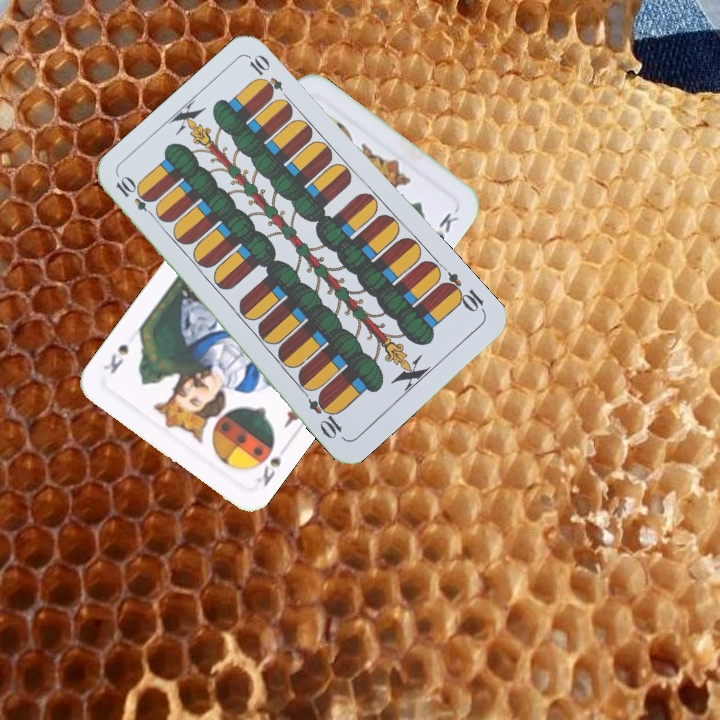E10: (437, 268, 488, 316), (111, 173, 160, 222)
SK: (252, 453, 284, 489)
